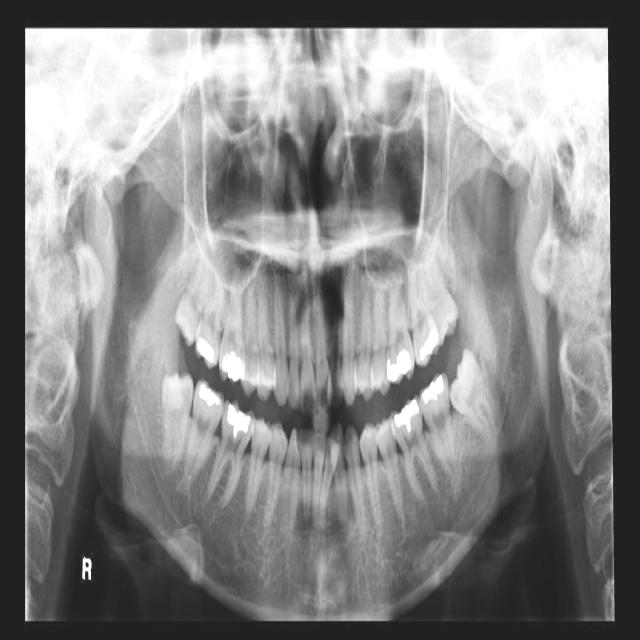Filling: (393, 398, 419, 435), (226, 403, 251, 441), (419, 374, 448, 404), (220, 348, 244, 381), (385, 350, 411, 378), (418, 330, 439, 361), (199, 380, 224, 406), (196, 333, 216, 364)
impacted tooth: (448, 351, 499, 443), (160, 375, 195, 466)
